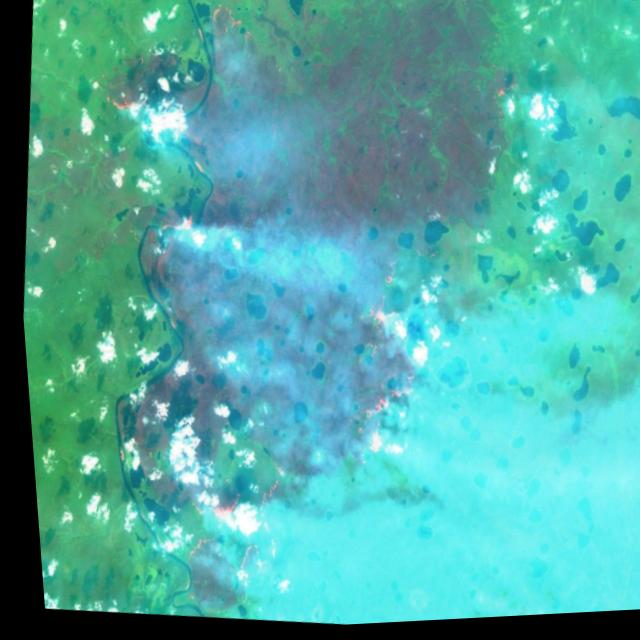fire: (143, 230, 439, 635), (83, 0, 267, 161), (469, 54, 526, 130)
